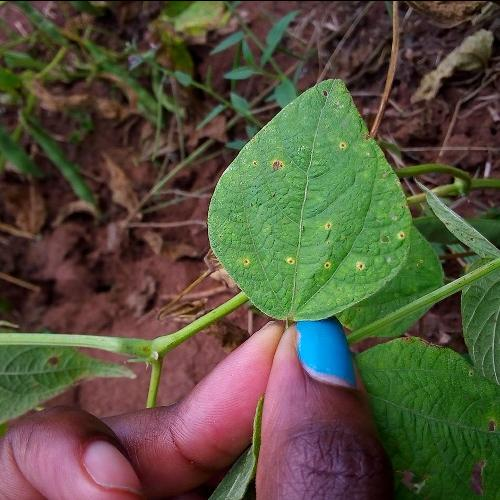hawar: (268, 154, 288, 174)
mozaik: (244, 126, 392, 296)
